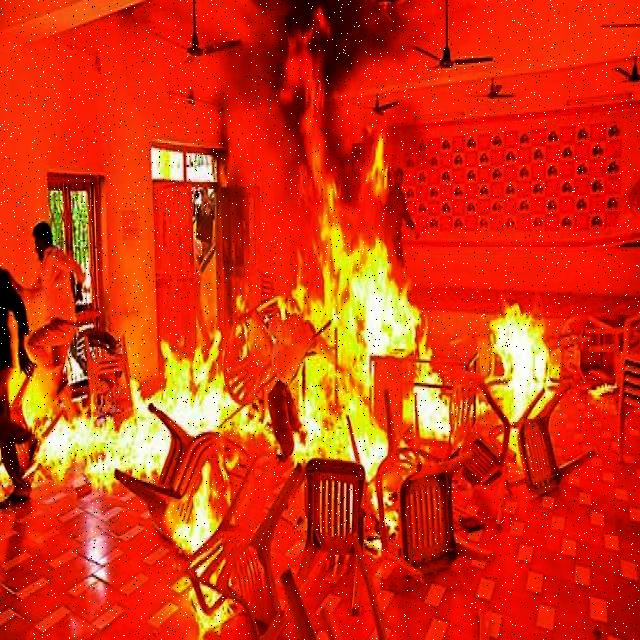fire: (289, 134, 463, 479), (38, 383, 260, 560), (486, 290, 574, 447)
